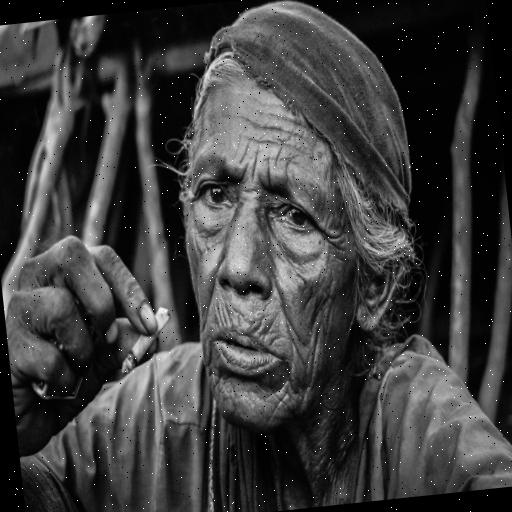pegang rokok: (54, 128, 230, 442)
